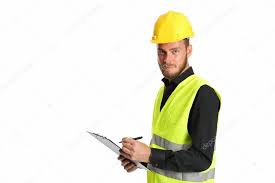Person_wearing_helmet: (146, 4, 197, 55)
